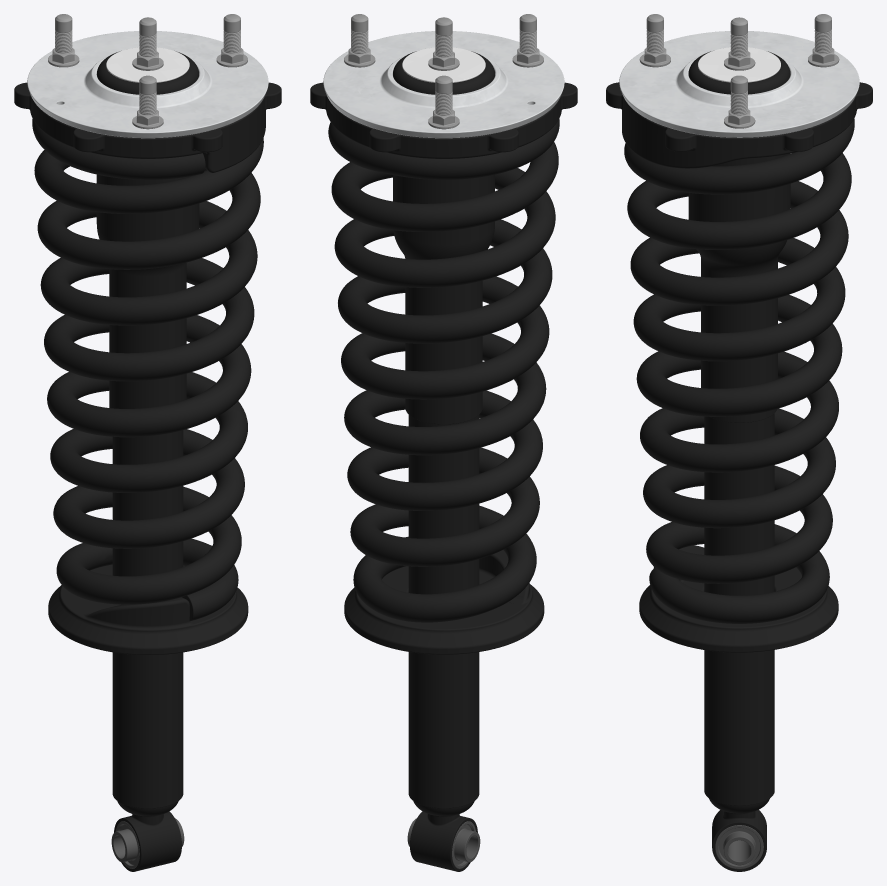
The model's file is suspension_strut_assembly_a01.glb.
The picture shows the model from 3 angles, left to right: view 1: azimuth 30°, elevation 25°; view 2: azimuth 150°, elevation 25°; view 3: azimuth 270°, elevation 25°; orthographic projection.
Visible parts, largest first — view 1: body_01_mesh_00; view 2: body_01_mesh_00; view 3: body_01_mesh_00.
Part boxes in pixels (bbox=[...]): body_01_mesh_00: bbox=[14, 14, 281, 871]; body_01_mesh_00: bbox=[310, 14, 577, 871]; body_01_mesh_00: bbox=[606, 14, 872, 871].
Size of the model in its own units: 0.1532 by 0.592 by 0.1699.
Materials: 5 (3 with a texture image).
